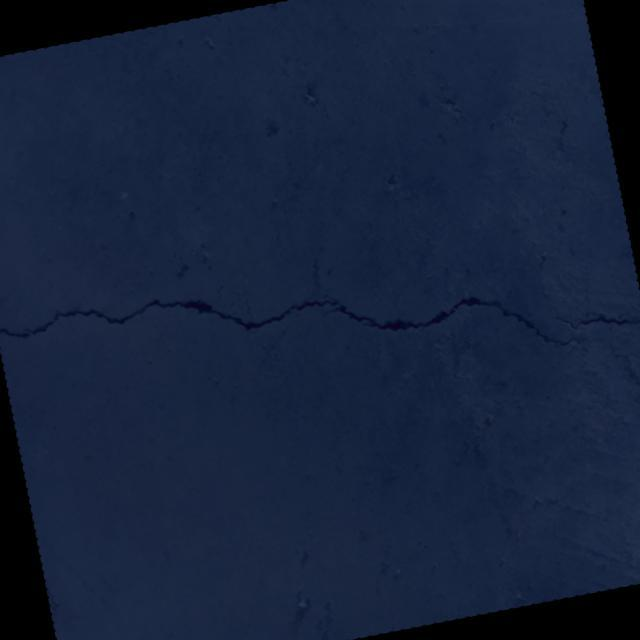crack: (0, 215, 575, 453), (539, 292, 640, 343)
